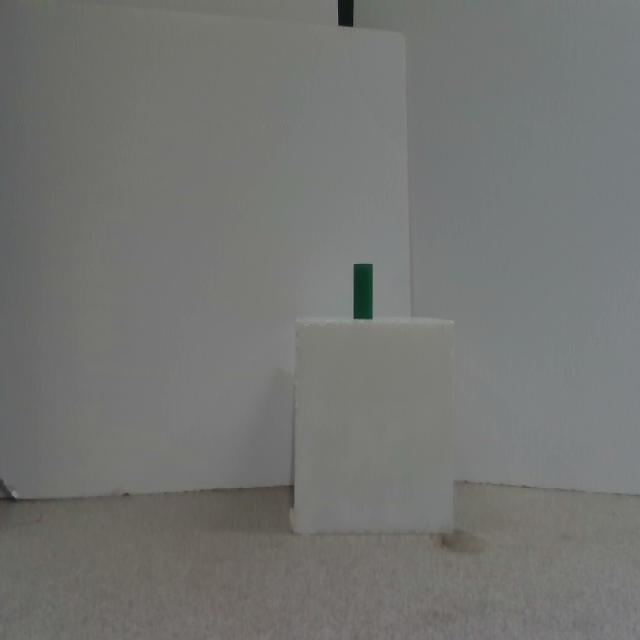green_cylinder: (353, 264, 372, 319)
